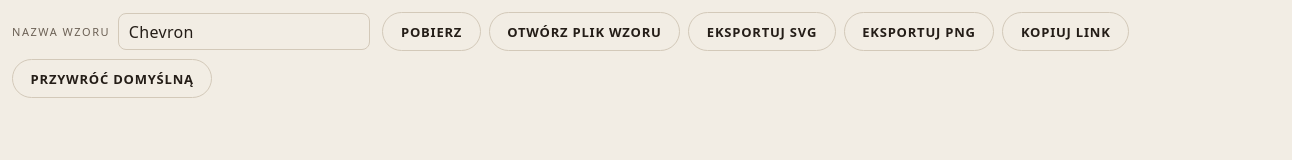
Test: FileMenu image export › passes a browser’s own error message through untranslated
The image size is (1292, 160).
Click the button "Eksportuj PNG": [919, 32] box [844,12,994,51]
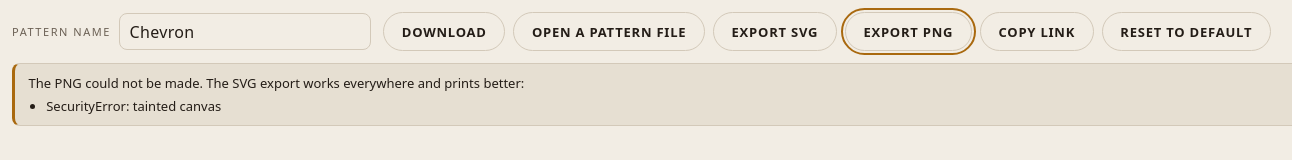
Now the message shows "SecurityError: tainted canvas", box [46,97,221,115]
